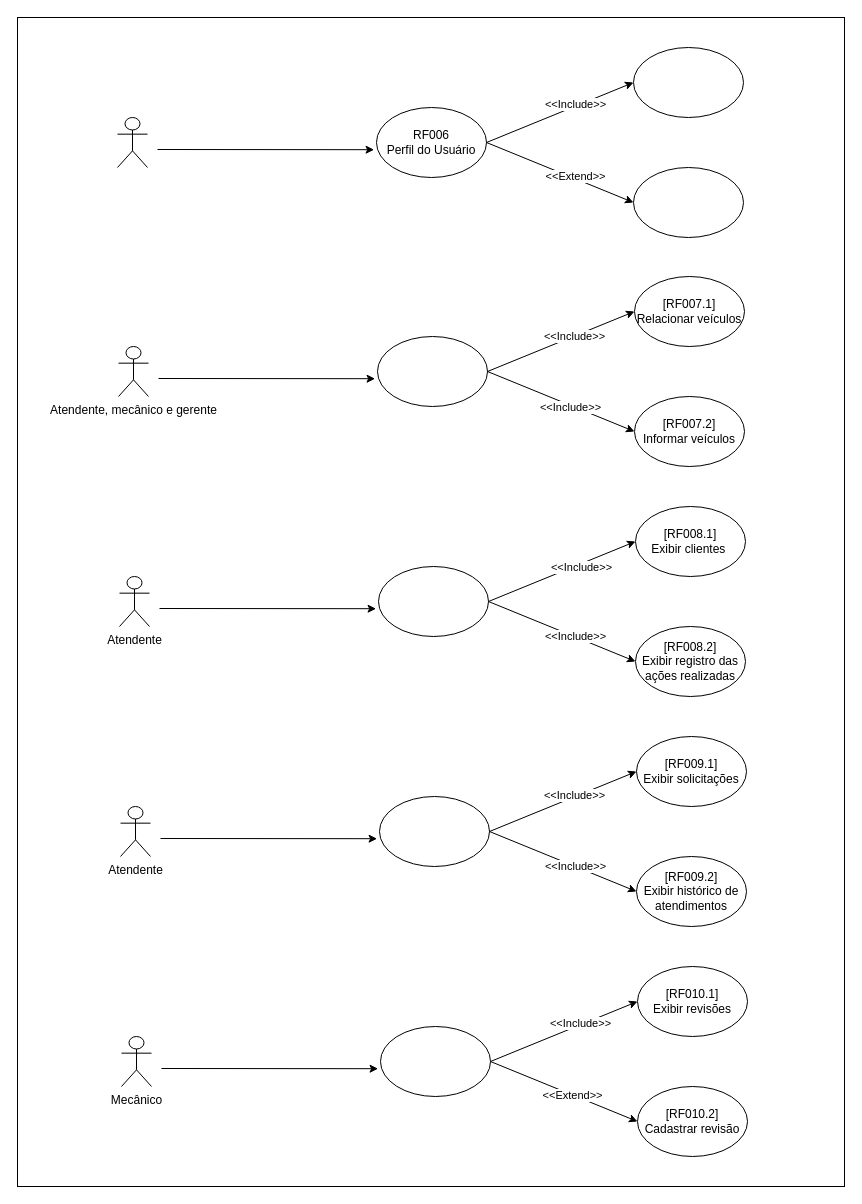
This 862x1204 diagram has some shape labels left out. The box of each missing label's shape, as (x1, y1, x2, y2) in pixels:
[RF006.1] Informar dados pessoais: (632, 46, 744, 118)
[RF006.2] Editar dados pessoais: (632, 166, 744, 238)
Cliente: (116, 116, 148, 168)
RF007 Listagem de Carros: (376, 336, 488, 406)
RF008 Atendimento ao cliente: (378, 566, 488, 636)
RF009 Suporte ao Cliente: (378, 796, 490, 866)
RF010 Cadastro de Revisão: (380, 1026, 490, 1096)
